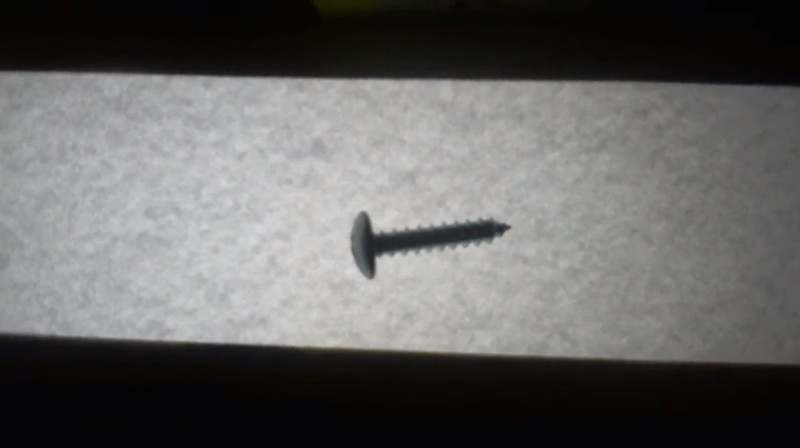S003: (345, 207, 516, 281)
